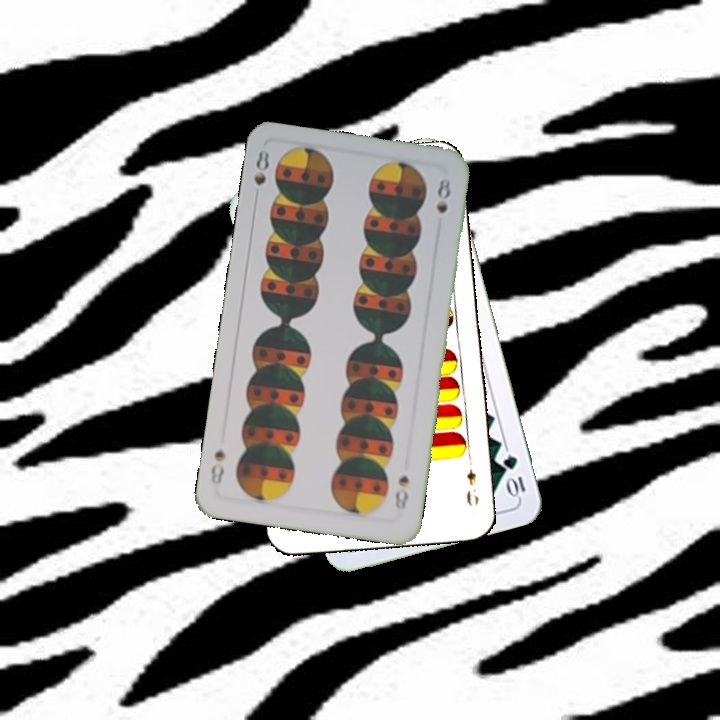E9: (462, 465, 481, 508)
G10: (499, 451, 528, 500)
S8: (250, 146, 272, 205), (391, 471, 412, 513)
